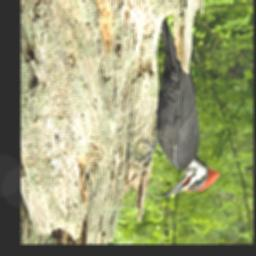Woodpecker: (135, 15, 221, 198)
